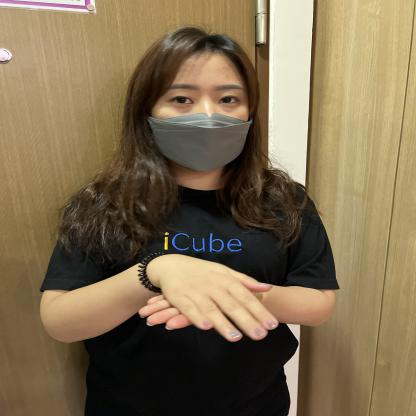Love: (79, 235, 350, 354)
